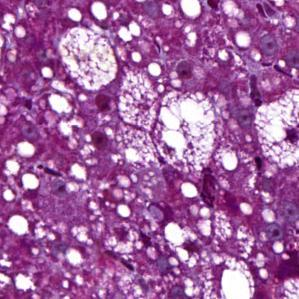ballooning: (150, 90, 219, 177), (58, 25, 120, 92), (254, 87, 299, 171)
